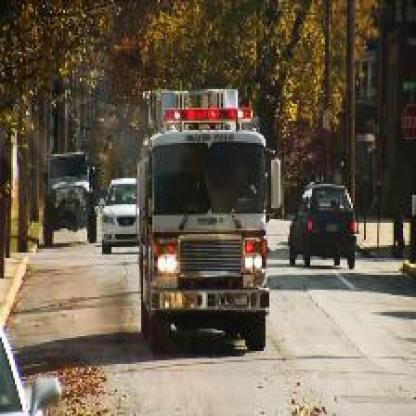other: (154, 99, 262, 123), (241, 233, 267, 276), (154, 238, 182, 274)
